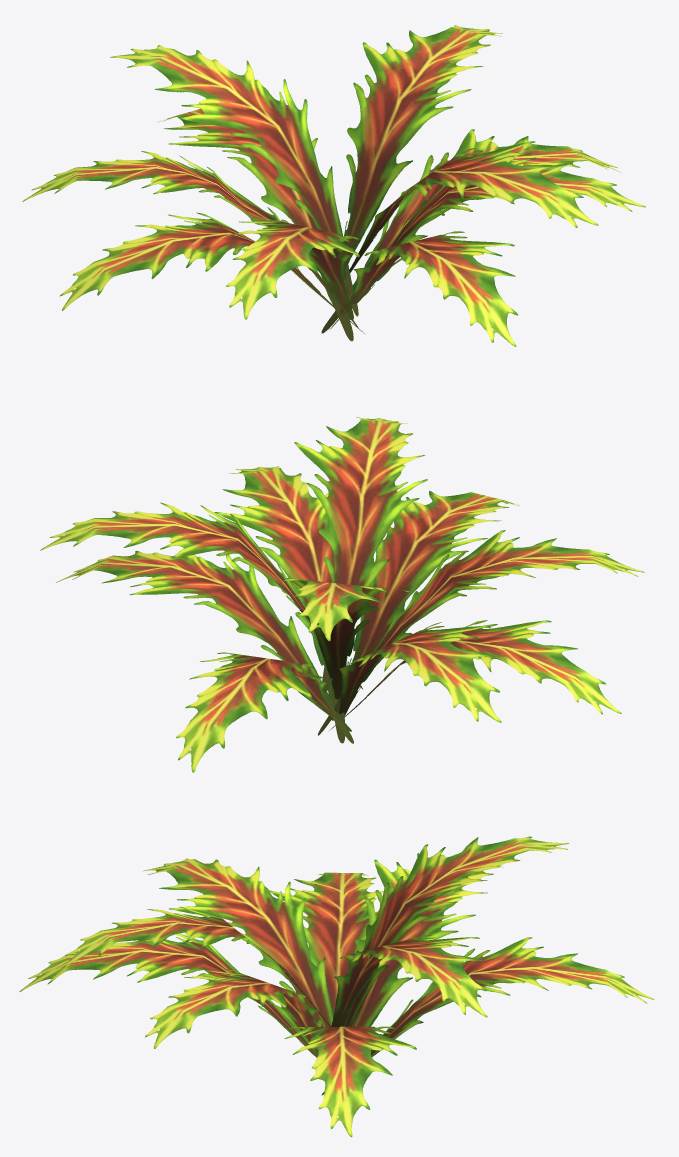
File: plant-3.fbx
3 views of the same model, one above another, from view 1: azimuth 30°, elevation 25°; view 2: azimuth 150°, elevation 25°; view 3: azimuth 270°, elevation 25° (orthographic). The views are drawn at different scales.
Visible parts, largest first — view 1: Plant_3_LOD00; view 2: Plant_3_LOD00; view 3: Plant_3_LOD00.
Boxes of the visible parts, x1=… form: Plant_3_LOD00: x1=22, y1=25, x2=645, y2=346; Plant_3_LOD00: x1=40, y1=417, x2=644, y2=772; Plant_3_LOD00: x1=19, y1=836, x2=654, y2=1137.
Size of what is drawn, in the model's own units: 33.85 by 13.71 by 35.27.
